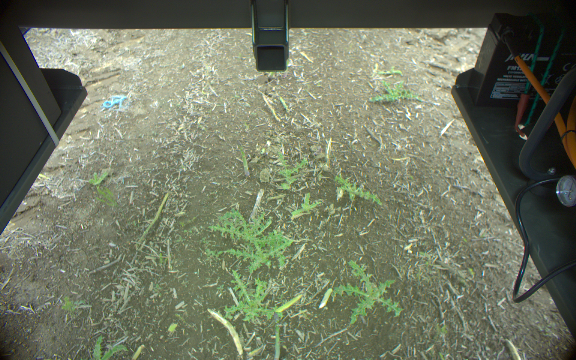aspa: (134, 190, 171, 246), (270, 310, 284, 360), (235, 140, 249, 178)
